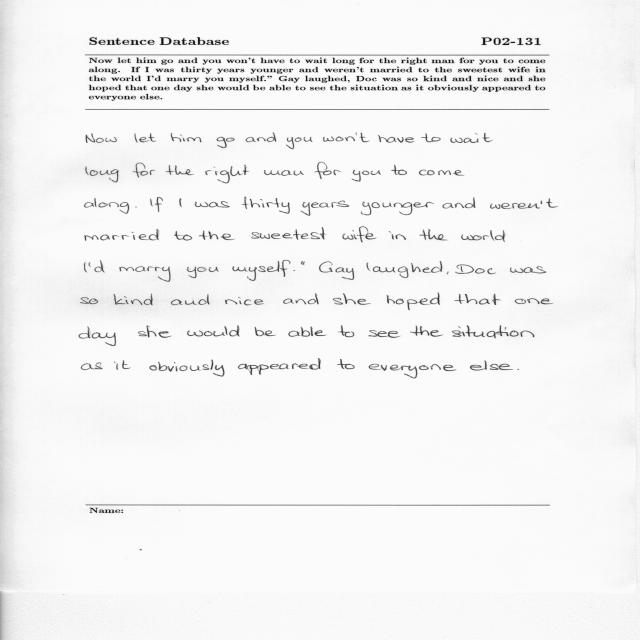word: (238, 358, 321, 375), (369, 364, 457, 379), (367, 261, 442, 278), (150, 360, 225, 377), (233, 260, 291, 281), (452, 326, 534, 339), (361, 202, 434, 216), (251, 227, 326, 240), (387, 293, 440, 310), (85, 229, 159, 241), (241, 197, 290, 214), (119, 266, 171, 282), (205, 165, 250, 183), (490, 198, 558, 209), (79, 326, 116, 346), (301, 201, 350, 216), (85, 198, 129, 214), (319, 261, 354, 280), (187, 326, 240, 337), (86, 167, 119, 183), (461, 230, 505, 242), (343, 227, 377, 242), (455, 294, 501, 305), (333, 293, 370, 305), (315, 162, 341, 179), (138, 325, 172, 338), (451, 133, 494, 143), (470, 361, 513, 371), (114, 294, 153, 305), (323, 133, 370, 142), (171, 295, 209, 306), (289, 326, 327, 337), (455, 265, 496, 275), (442, 197, 476, 209), (283, 293, 319, 304), (410, 326, 443, 337), (187, 267, 219, 278), (133, 163, 155, 178), (286, 137, 313, 149), (199, 231, 235, 240), (352, 170, 381, 181), (419, 229, 448, 240), (225, 297, 264, 305), (86, 133, 117, 143), (378, 135, 415, 143), (166, 165, 194, 175), (171, 133, 202, 142), (246, 133, 276, 142), (419, 170, 464, 176), (369, 330, 401, 338), (510, 267, 546, 274), (195, 201, 230, 208), (264, 170, 304, 176), (515, 298, 553, 304), (88, 260, 105, 273), (135, 133, 156, 143), (217, 137, 235, 148), (150, 197, 163, 212), (255, 327, 276, 336), (421, 134, 441, 143), (174, 231, 192, 241), (337, 359, 355, 369), (338, 326, 354, 337), (114, 360, 131, 370), (391, 165, 407, 175), (389, 231, 406, 240), (82, 363, 103, 370), (81, 298, 98, 305), (84, 263, 87, 273), (179, 198, 182, 207), (301, 261, 305, 265), (447, 272, 449, 275), (135, 207, 137, 208), (294, 270, 296, 271), (518, 369, 520, 370)
